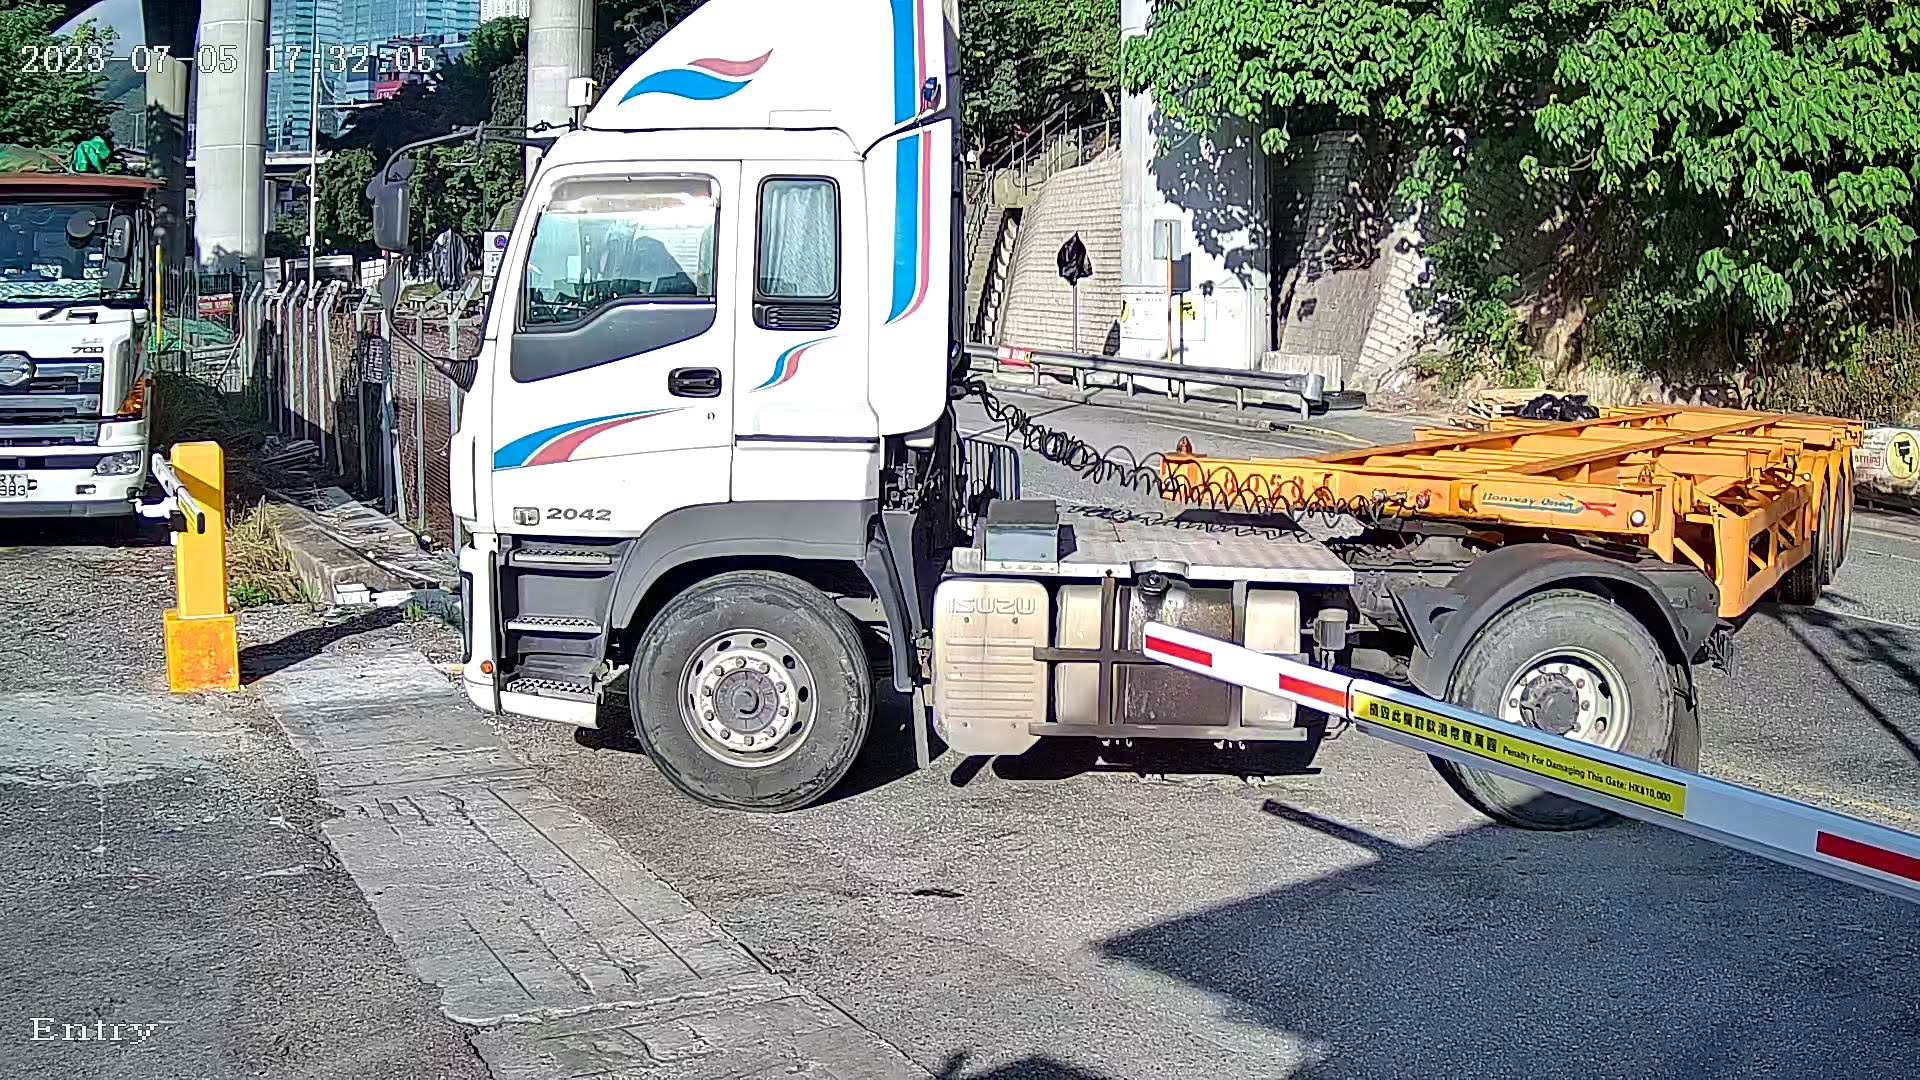truck: (439, 1, 1850, 864)
